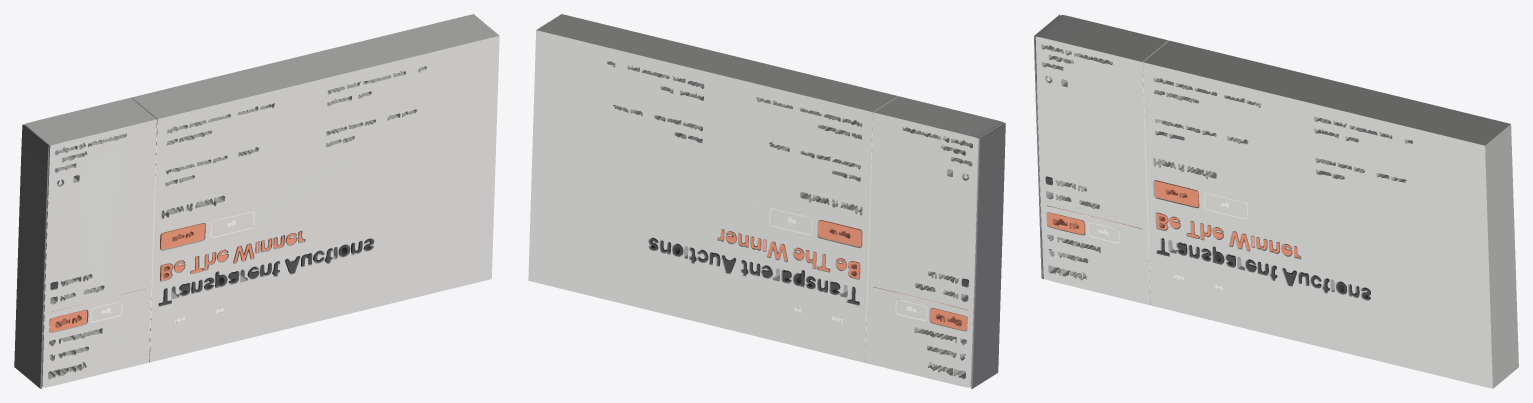
The picture shows the model from 3 angles, left to right: view 1: azimuth 30°, elevation 25°; view 2: azimuth 150°, elevation 25°; view 3: azimuth 330°, elevation 25°; orthographic projection.
Parts seen in each view (by area): view 1: Node1, Node2, Node40, Node9, Node10; view 2: Node1, Node2, Node40, Node9, Node10; view 3: Node1, Node2, Node9, Node40, Node10.
Boxes of the visible parts, x1=… form: Node1: x1=131, y1=14, x2=499, y2=362; Node2: x1=24, y1=97, x2=156, y2=387; Node40: x1=14, y1=124, x2=48, y2=388; Node9: x1=160, y1=223, x2=204, y2=249; Node10: x1=49, y1=310, x2=87, y2=332; Node1: x1=528, y1=14, x2=897, y2=362; Node2: x1=865, y1=96, x2=1003, y2=387; Node40: x1=971, y1=122, x2=1005, y2=388; Node9: x1=818, y1=220, x2=862, y2=246; Node10: x1=930, y1=308, x2=967, y2=330; Node1: x1=1143, y1=40, x2=1518, y2=388; Node2: x1=1035, y1=15, x2=1168, y2=305; Node9: x1=1154, y1=180, x2=1199, y2=206; Node40: x1=1034, y1=14, x2=1060, y2=279; Node10: x1=1047, y1=212, x2=1085, y2=234.
Size of the model in its own units: 3.94 by 2.1 by 0.5117.
